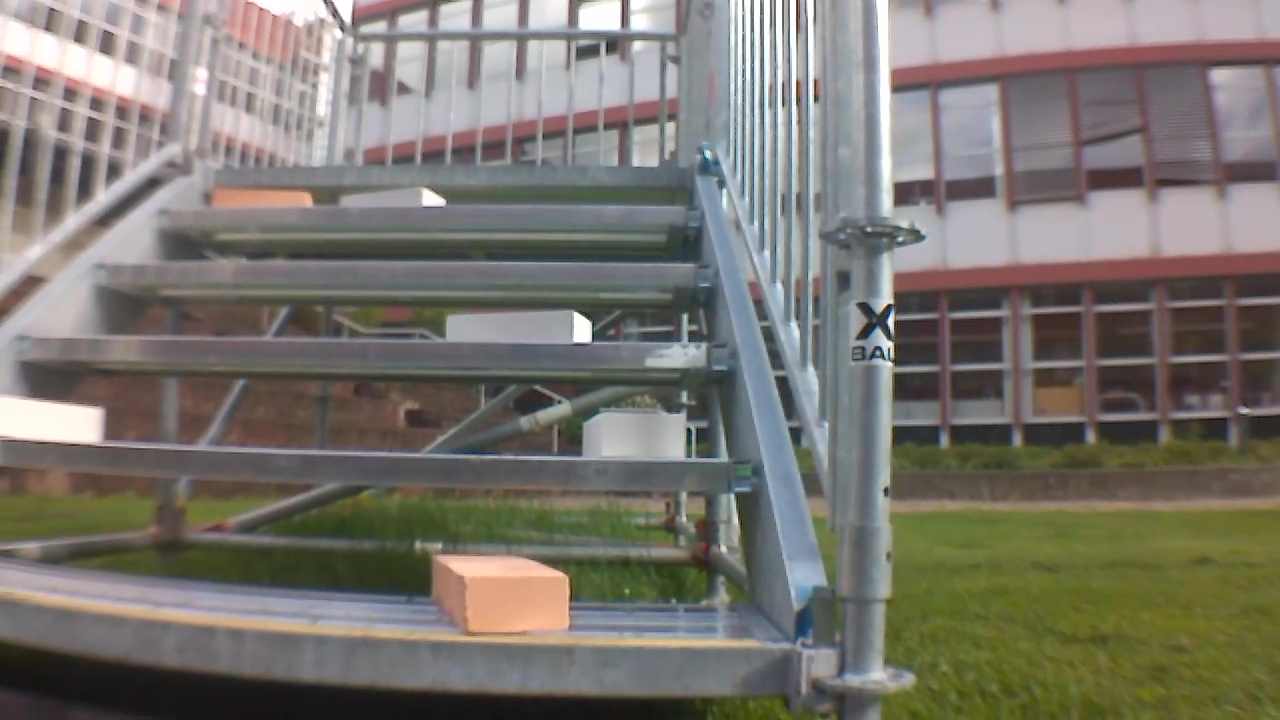brick: (431, 554, 568, 634), (583, 412, 685, 458), (3, 396, 102, 442), (447, 311, 590, 342), (342, 188, 446, 207), (213, 187, 312, 206)
edge: (3, 598, 793, 695), (0, 442, 755, 491), (19, 336, 738, 370), (94, 261, 715, 285), (159, 205, 704, 229), (204, 164, 693, 187)
stairs: (5, 3, 911, 714)
steps: (4, 155, 806, 703)
